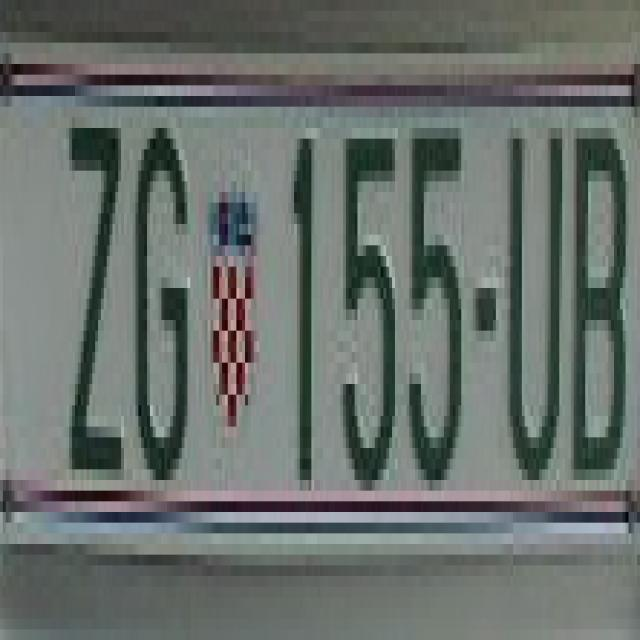1: (288, 117, 314, 480)
5: (340, 117, 398, 480), (404, 117, 461, 480)
B: (568, 117, 631, 480)
G: (132, 117, 184, 480)
U: (510, 117, 562, 480)
Z: (58, 96, 124, 469)
